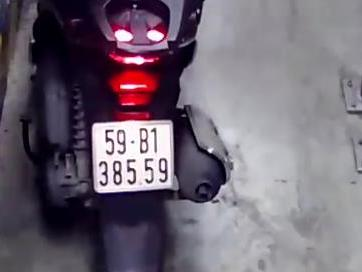num_plate: (91, 121, 177, 191)
